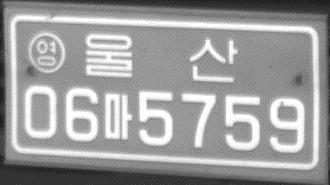0: (22, 83, 58, 139)
5: (136, 89, 175, 148), (223, 93, 262, 152)
6: (64, 86, 99, 143)
7: (179, 90, 218, 149)
9: (268, 96, 305, 154)
마: (103, 91, 134, 141)
영: (26, 31, 65, 74)
울산_D: (83, 31, 239, 86)
